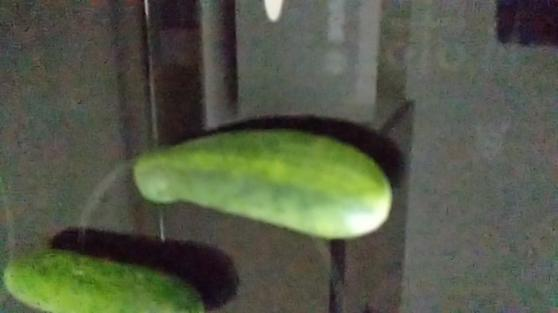cucumber: (135, 124, 395, 238), (4, 245, 207, 313)
